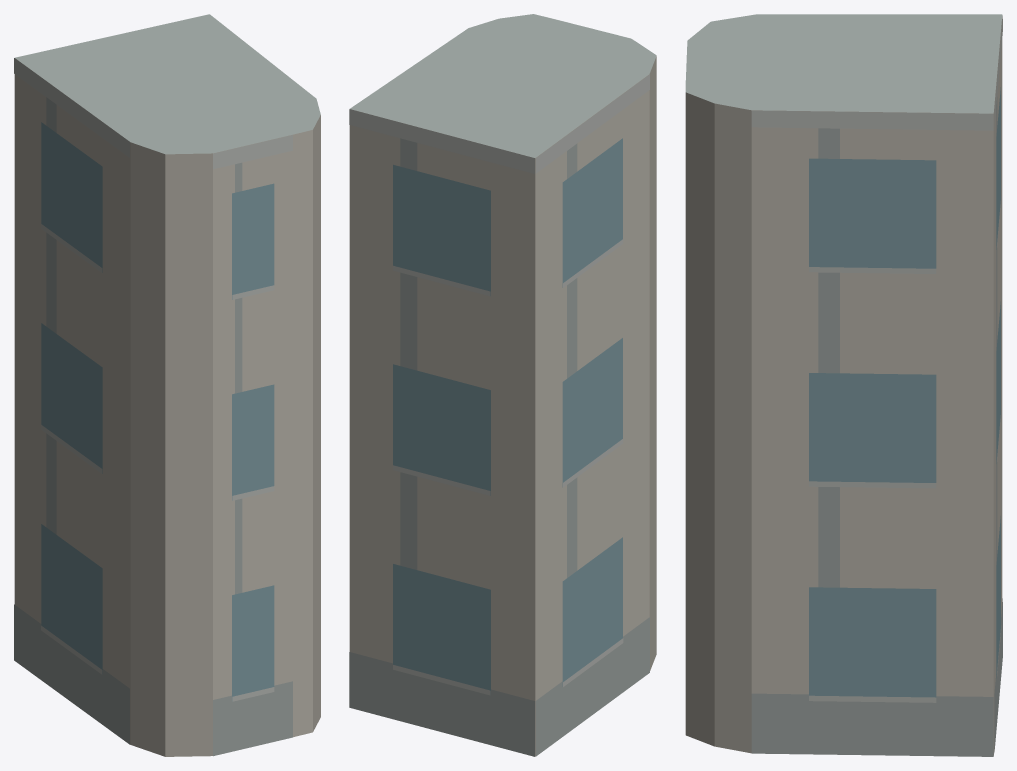
The model's file is survey-upis-32647774.glb.
3 views of the same model, side by side, from view 1: azimuth 30°, elevation 25°; view 2: azimuth 150°, elevation 25°; view 3: azimuth 270°, elevation 25° (orthographic). The views are drawn at different scales.
Visible parts, largest first — view 1: survey-upis-32647774.tmp; view 2: survey-upis-32647774.tmp; view 3: survey-upis-32647774.tmp.
Part boxes in pixels (x1,y1,x2,y2): survey-upis-32647774.tmp: (14,14,320,756); survey-upis-32647774.tmp: (349,14,656,756); survey-upis-32647774.tmp: (685,14,1002,756).
Size of the model in its own units: 3.05 by 9.15 by 4.1.
